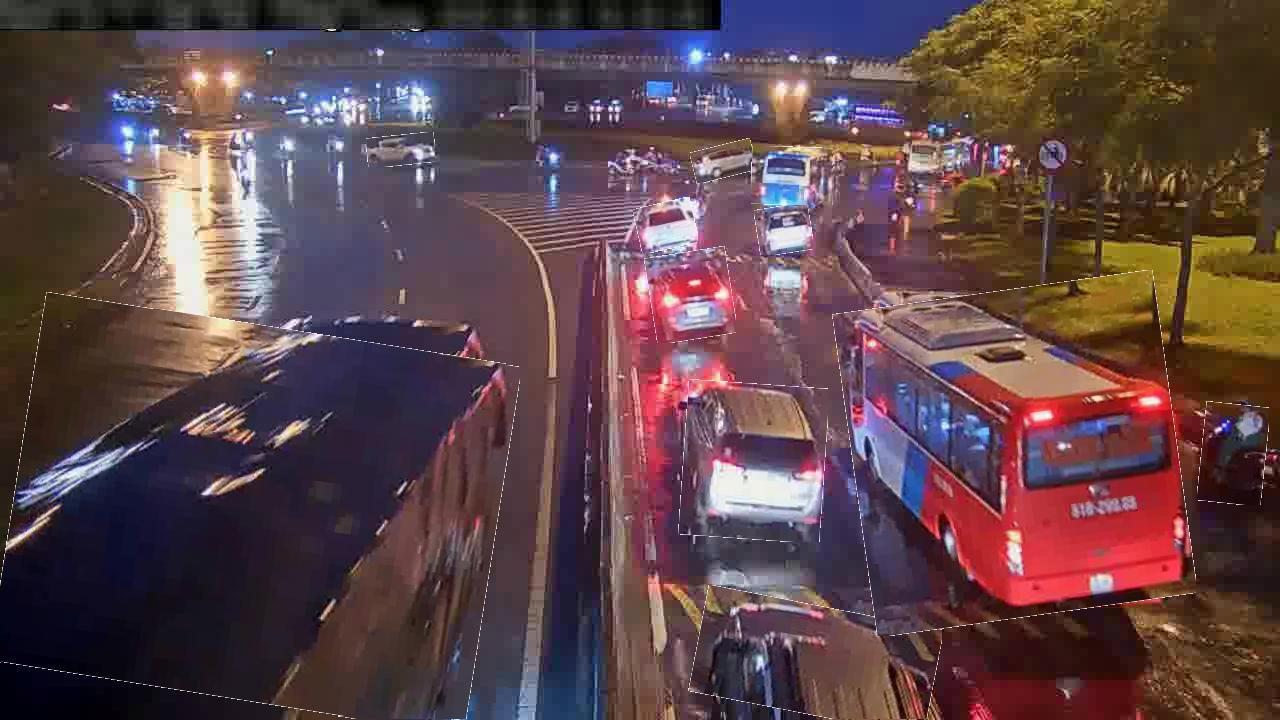14: (843, 281, 1187, 627), (752, 146, 834, 206)
8: (1, 310, 508, 718)
container: (692, 596, 940, 719), (681, 382, 827, 541), (647, 249, 734, 342), (635, 200, 697, 252), (756, 204, 813, 255), (692, 142, 756, 180), (366, 134, 436, 167)
motorbike: (1200, 403, 1268, 505)
